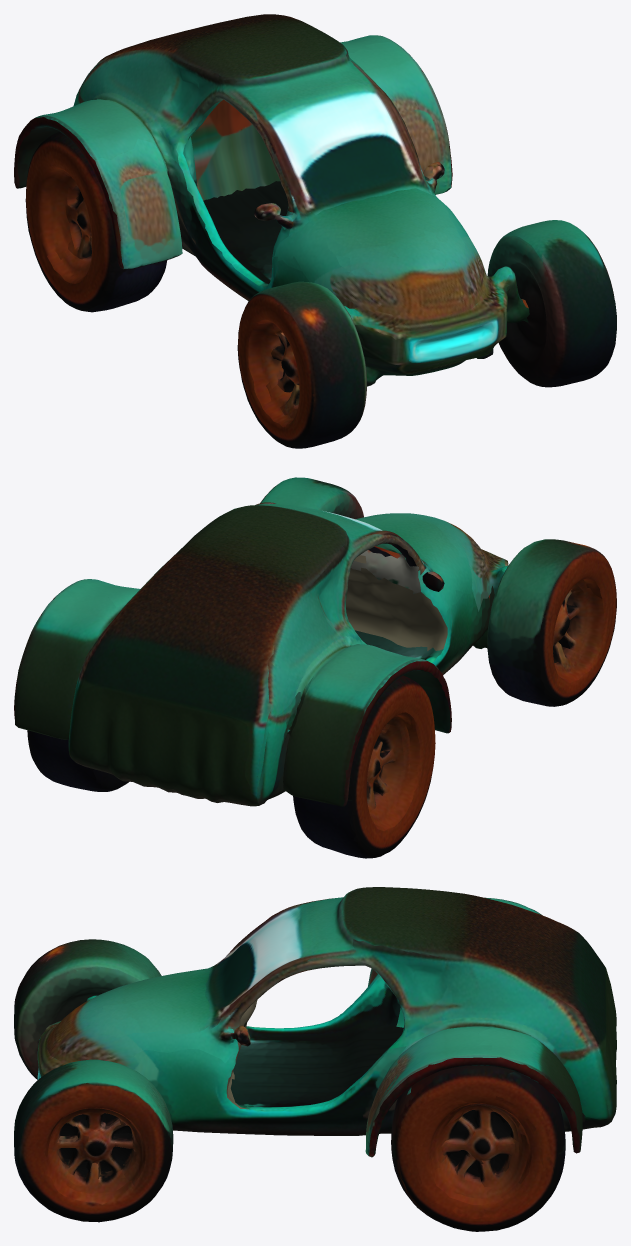
Rendered from vehicle-desert-buggy-mesh.glb.
3 renders of one model, top to bottom at view 1: azimuth 30°, elevation 25°; view 2: azimuth 150°, elevation 25°; view 3: azimuth 270°, elevation 25°, orthographic. The views are drawn at different scales.
Parts seen in each view (by area): view 1: tmp_0p5cxb1.ply; view 2: tmp_0p5cxb1.ply; view 3: tmp_0p5cxb1.ply.
Boxes of the visible parts, left/top/right/bottom form: tmp_0p5cxb1.ply: left=14, top=14, right=616, bottom=448; tmp_0p5cxb1.ply: left=14, top=477, right=616, bottom=858; tmp_0p5cxb1.ply: left=14, top=887, right=616, bottom=1231.
Bounding box in the file's own units: 0.6239 × 0.4526 × 0.9878.
1 material, 1 textured.
